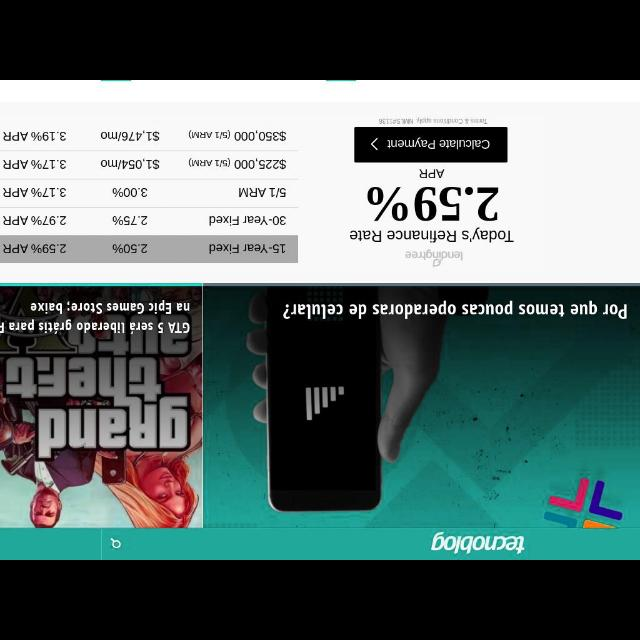icon: (370, 136, 380, 150), (110, 537, 120, 549)
image: (203, 286, 639, 528), (1, 286, 202, 528), (432, 532, 524, 554), (405, 248, 463, 266)
text: (1, 300, 191, 334), (283, 301, 627, 319), (366, 185, 498, 221), (350, 226, 514, 242), (188, 156, 286, 170), (188, 128, 286, 142), (387, 138, 491, 150), (208, 242, 286, 254), (208, 214, 286, 226), (378, 116, 488, 124), (2, 242, 66, 254), (100, 130, 160, 142), (101, 157, 160, 169), (3, 187, 67, 197), (2, 159, 66, 169), (2, 131, 66, 141), (238, 186, 286, 198), (2, 216, 66, 224), (112, 243, 148, 253), (112, 215, 148, 225), (111, 187, 147, 197), (420, 168, 444, 178)
textbutton: (354, 126, 506, 162)
toolbar: (1, 528, 640, 560)
